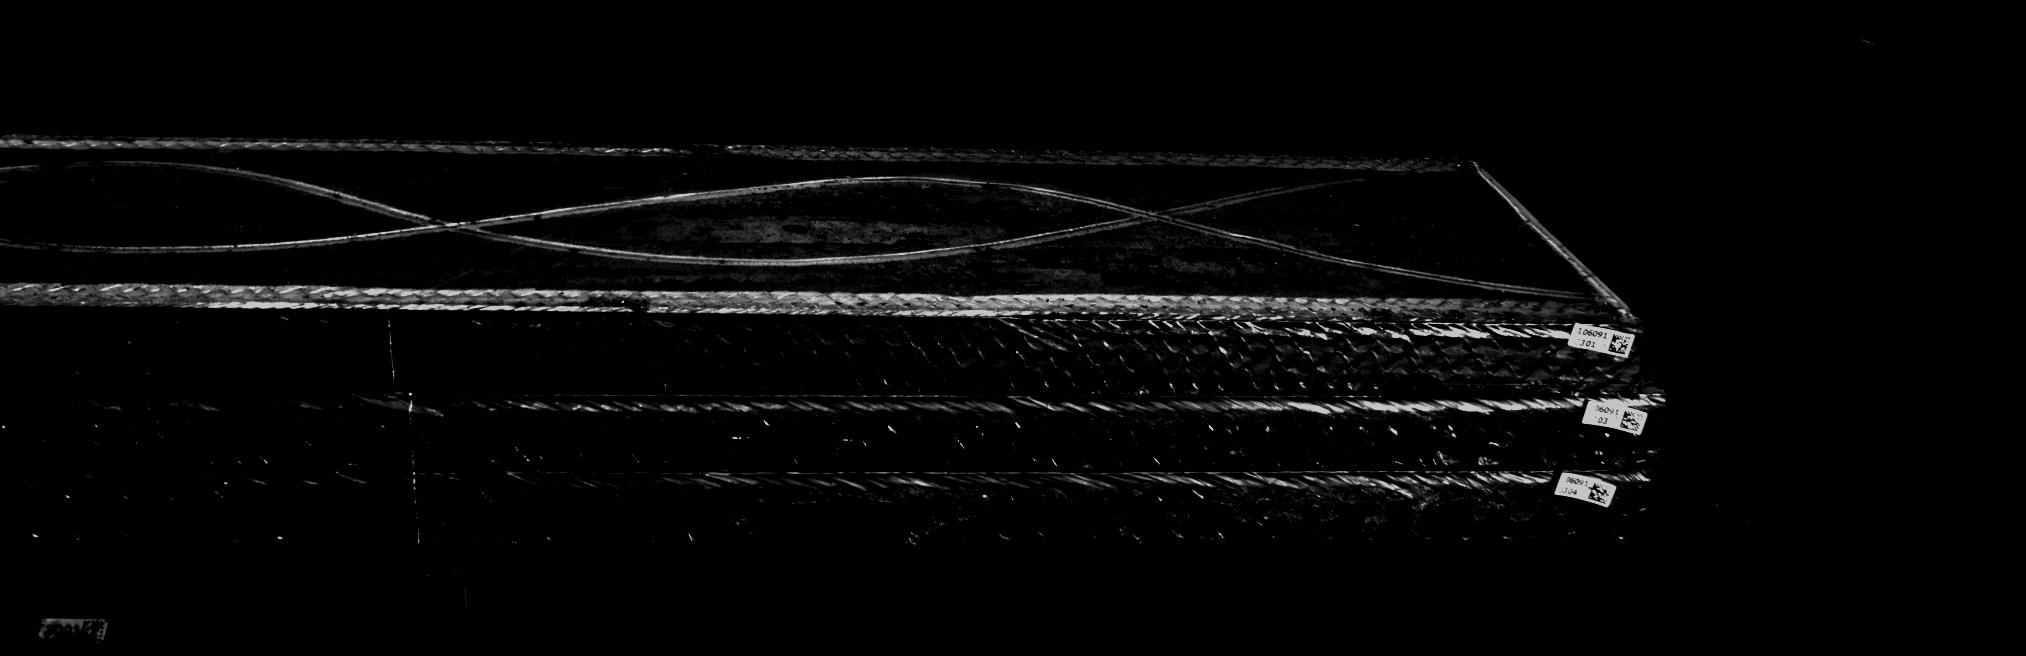data matrix: (78, 619, 111, 650), (1607, 333, 1634, 356), (1589, 482, 1614, 506), (1620, 411, 1646, 434)
